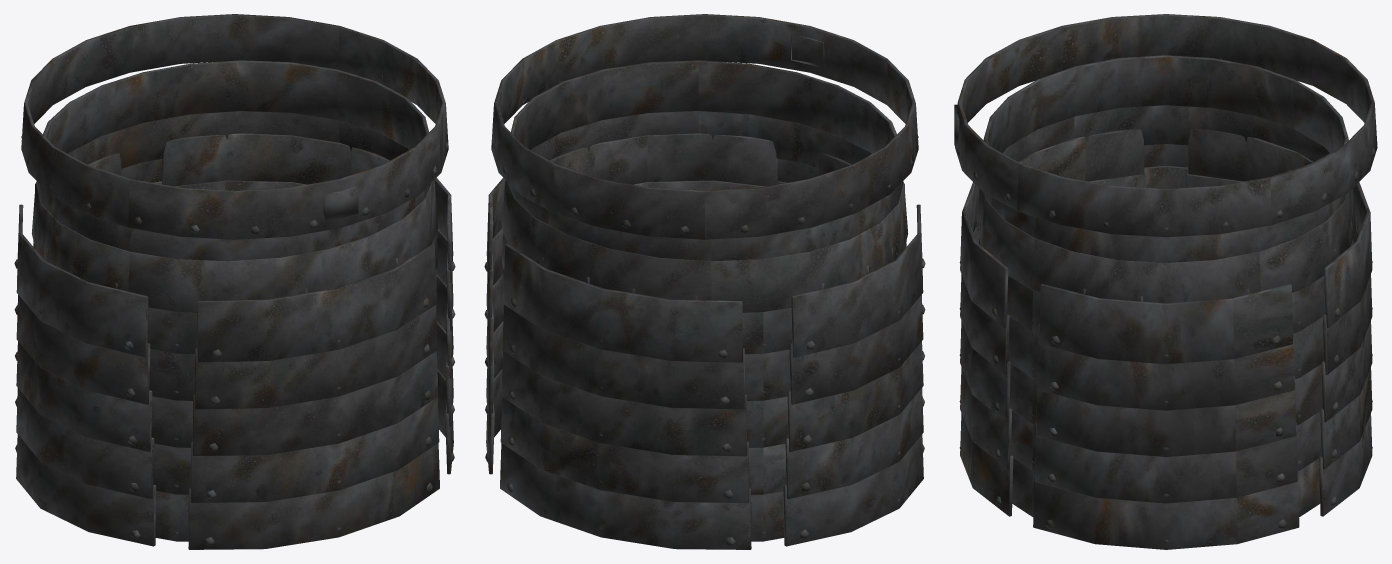
File: fauld-proc-v4.glb
3 renders of one model, left to right at view 1: azimuth 30°, elevation 25°; view 2: azimuth 150°, elevation 25°; view 3: azimuth 270°, elevation 25°, orthographic.
Visible parts, largest first — view 1: fauld; view 2: fauld; view 3: fauld.
Boxes of the visible parts, bbox=[...] form: fauld: bbox=[14, 14, 455, 549]; fauld: bbox=[484, 14, 925, 549]; fauld: bbox=[954, 14, 1377, 549].
Bounding box in the file's own units: 0.4787 × 0.4202 × 0.4545.
Materials: 1 (1 with a texture image).
